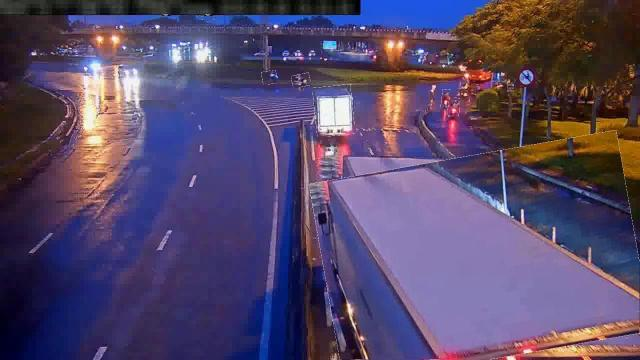Bike: (292, 73, 310, 87), (448, 98, 460, 116), (262, 71, 276, 85), (442, 90, 451, 108)
Truck: (316, 142, 640, 360), (314, 86, 354, 136)
